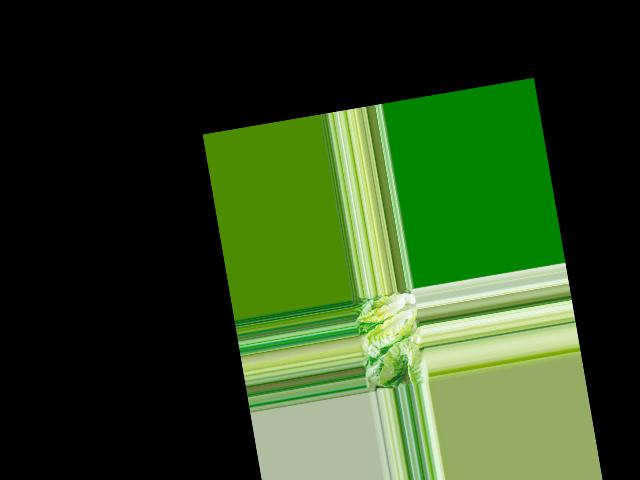lettuce: (356, 290, 425, 360)
